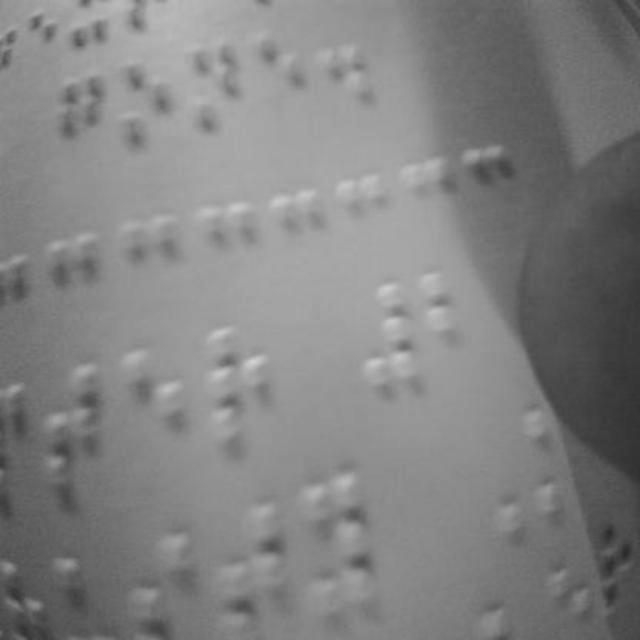braiile: (295, 460, 379, 610), (218, 490, 286, 640), (40, 362, 112, 503), (422, 263, 490, 403), (122, 338, 188, 478), (206, 320, 274, 448), (186, 32, 246, 152), (117, 50, 175, 162), (57, 68, 113, 182), (252, 22, 304, 128)
